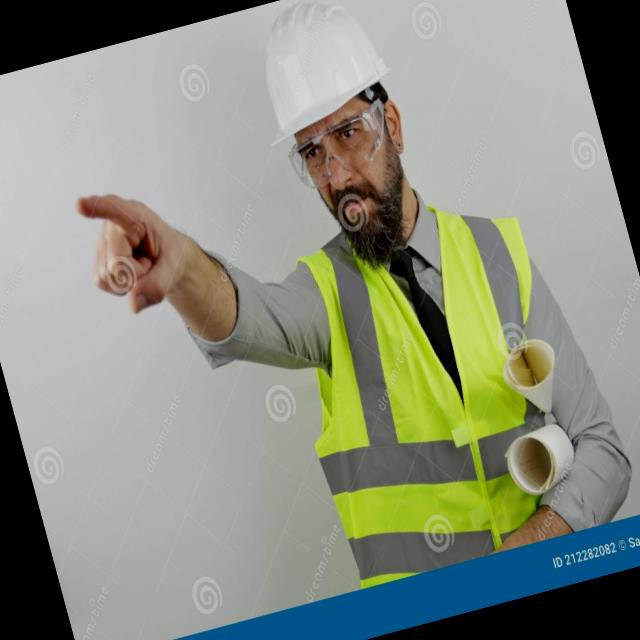goggles: (272, 110, 406, 195)
helmet: (229, 0, 409, 148)
vest: (274, 178, 594, 574)
